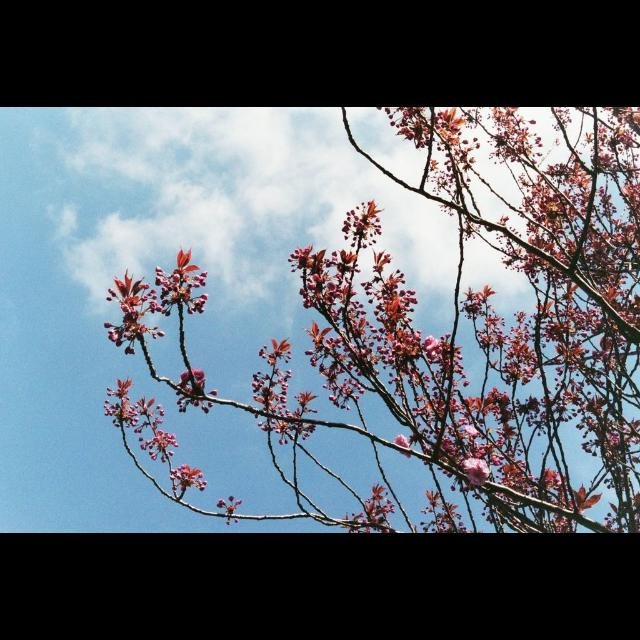Flower: (96, 107, 640, 533)
